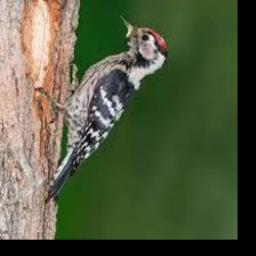Woodpecker: (36, 15, 169, 202)
